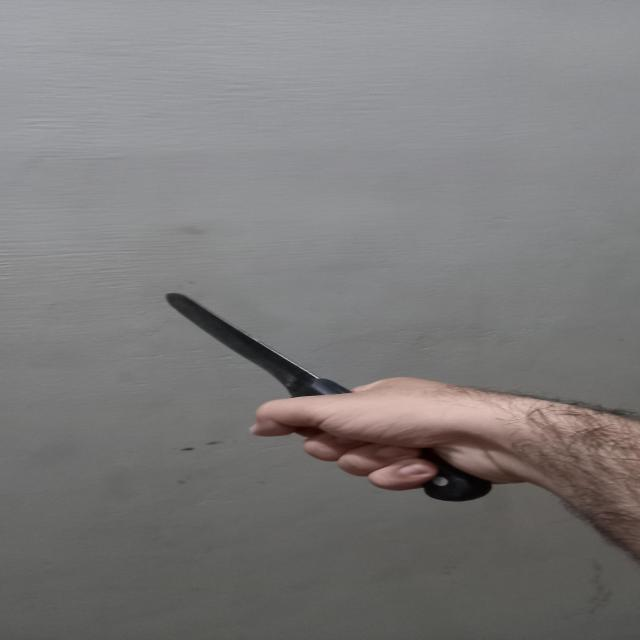Knife: (166, 294, 494, 502)
Person: (251, 376, 640, 573)
